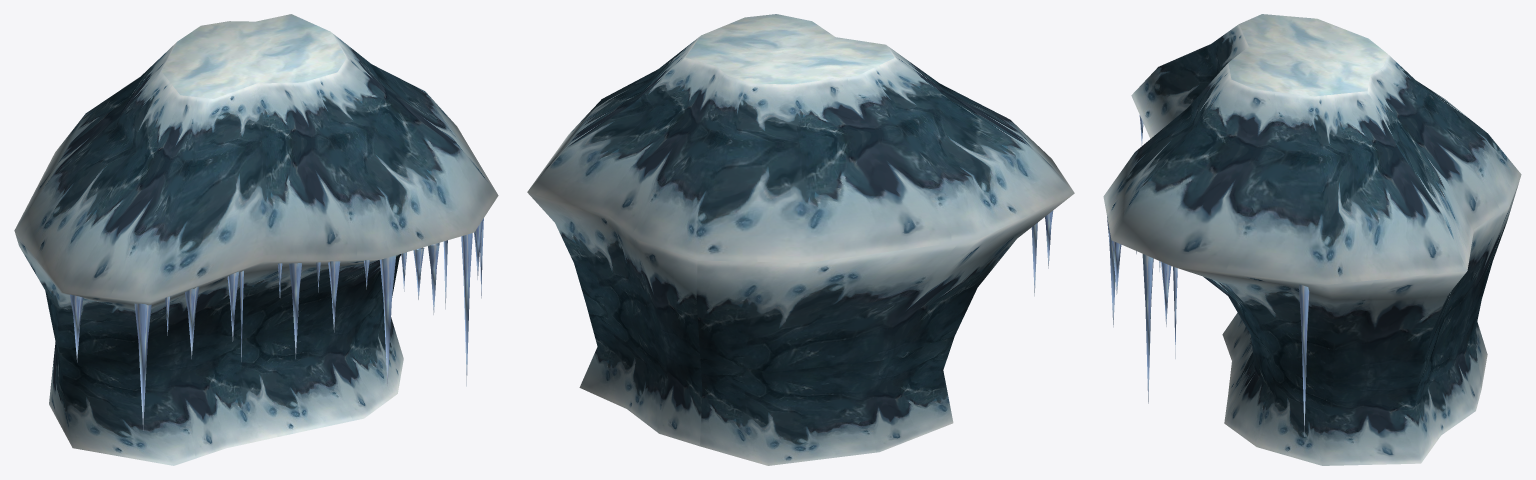
The model's file is 3-1_shishan1.FBX.
3 renders of one model, left to right at view 1: azimuth 30°, elevation 25°; view 2: azimuth 150°, elevation 25°; view 3: azimuth 270°, elevation 25°, orthographic. The views are drawn at different scales.
Visible parts, largest first — view 1: 3-1_shishan1; view 2: 3-1_shishan1; view 3: 3-1_shishan1.
Boxes of the visible parts, x1,y1,x2,y2 form: 3-1_shishan1: (14,14,498,465); 3-1_shishan1: (527,14,1074,465); 3-1_shishan1: (1103,14,1521,465).
Bounding box in the file's own units: 2632 × 1891 × 2149.
